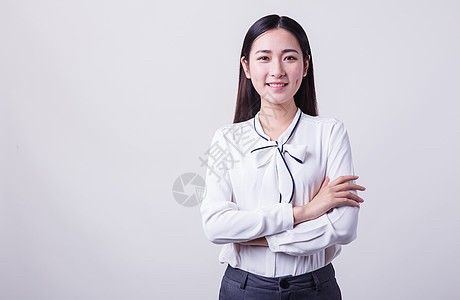people: (217, 8, 339, 300)
